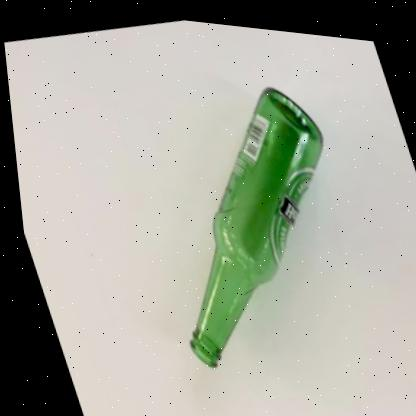Glass: (183, 82, 321, 364)
